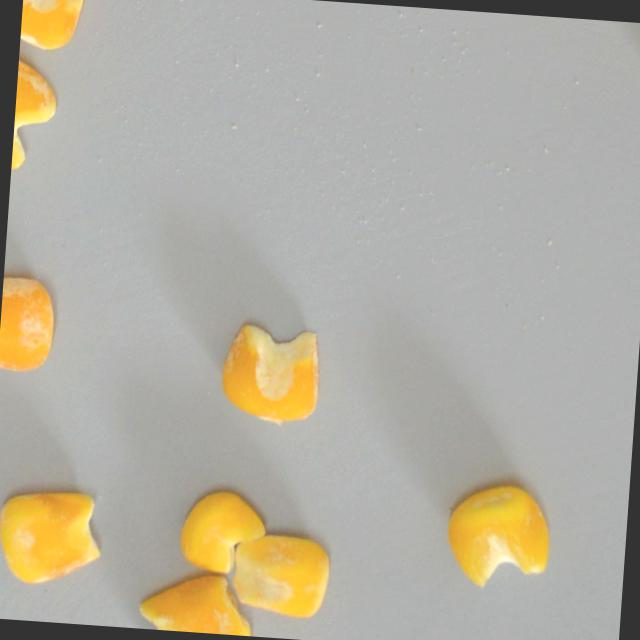no_canjicado: (441, 477, 552, 592), (0, 487, 101, 588), (177, 486, 266, 575)
pelicula: (217, 322, 321, 424), (228, 530, 330, 621), (132, 568, 254, 636), (0, 275, 54, 373), (10, 58, 56, 173), (18, 0, 84, 53)
